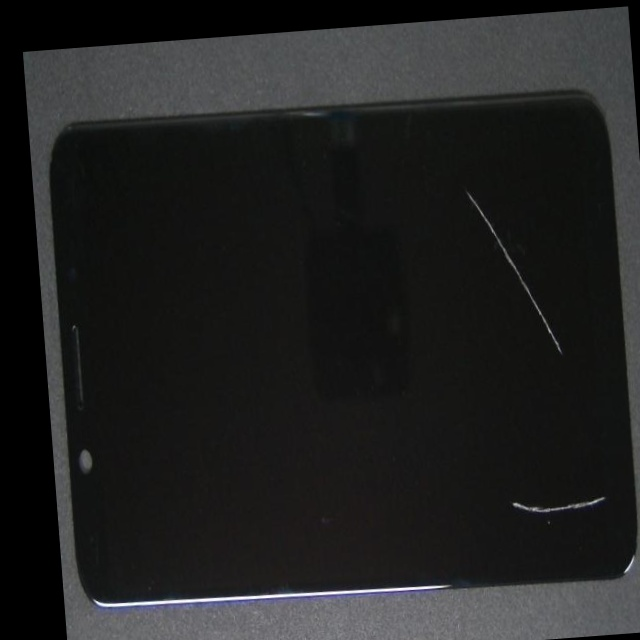scratch: (381, 258, 640, 640), (355, 269, 640, 436)
